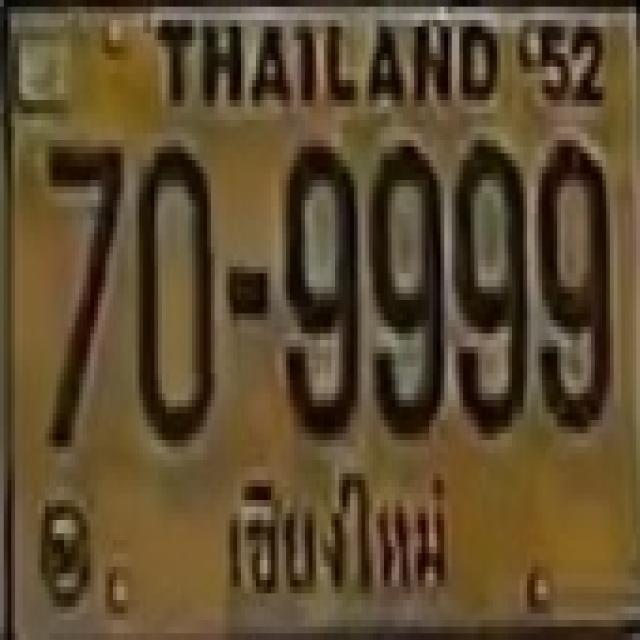0: (135, 140, 211, 440)
7: (45, 140, 121, 440)
9: (282, 137, 358, 430), (535, 133, 606, 427), (452, 133, 523, 427), (369, 140, 440, 433)
CMI: (210, 457, 459, 605)
